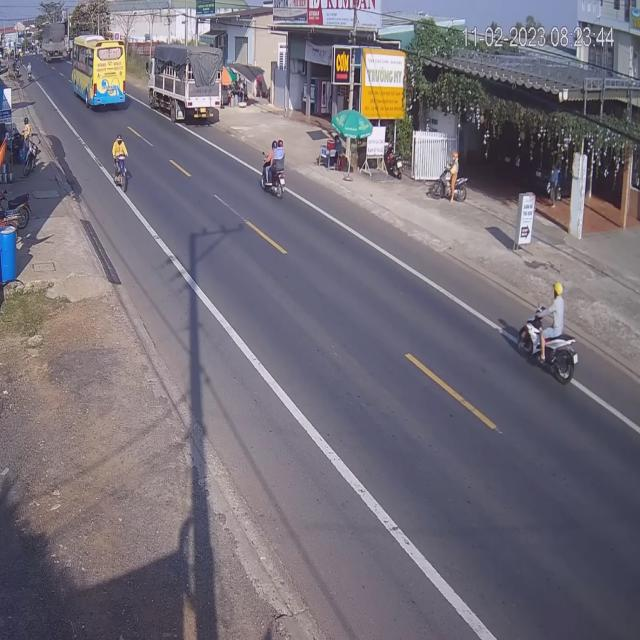bus: (70, 39, 125, 113)
motorbike: (518, 282, 580, 389), (261, 140, 289, 202), (440, 155, 466, 206), (110, 135, 128, 195)
truck: (147, 48, 220, 128), (40, 18, 69, 64)
